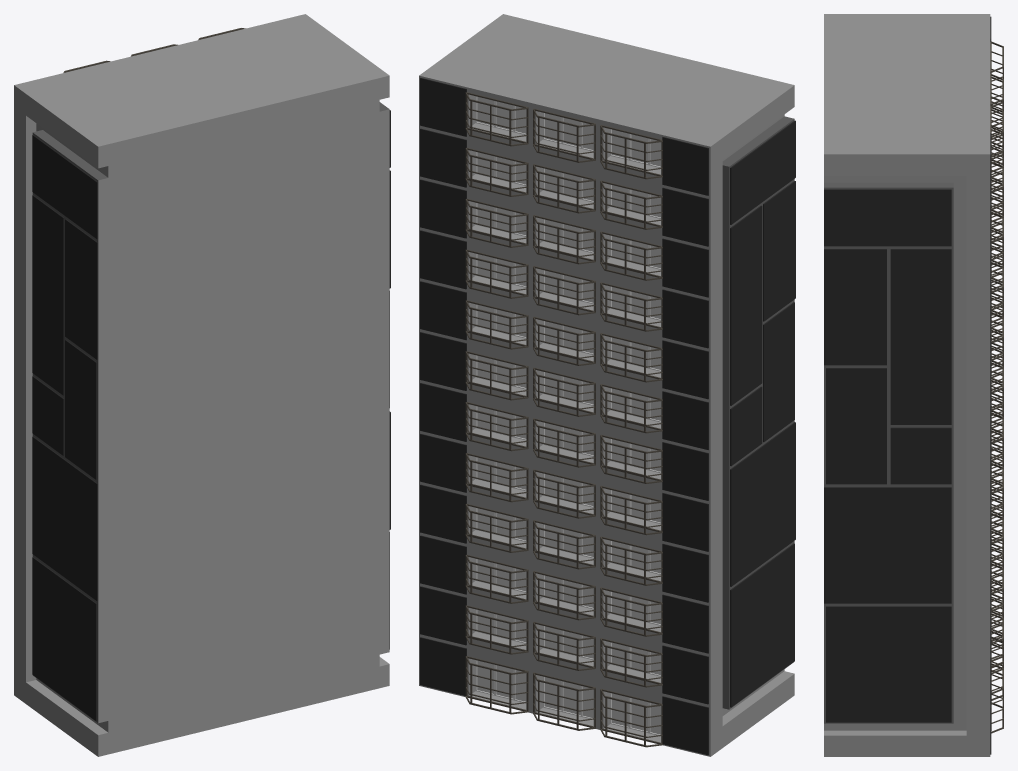
Rendered from Building_05_B_Fake Interior.FBX.
The picture shows the model from 3 angles, left to right: view 1: azimuth 30°, elevation 25°; view 2: azimuth 150°, elevation 25°; view 3: azimuth 270°, elevation 25°; orthographic projection.
Visible parts, largest first — view 1: Building_05_B_Fake Interior_LOD0; view 2: Building_05_B_Fake Interior_LOD0, Building_05_Window_Fence_Back_LOD0; view 3: Building_05_B_Fake Interior_LOD0, Building_05_Window_Fence_Back_LOD0.
Part boxes in pixels (bbox=[...]): Building_05_B_Fake Interior_LOD0: bbox=[14, 14, 390, 756]; Building_05_B_Fake Interior_LOD0: bbox=[419, 14, 795, 756]; Building_05_Window_Fence_Back_LOD0: bbox=[465, 92, 663, 747]; Building_05_B_Fake Interior_LOD0: bbox=[824, 14, 991, 756]; Building_05_Window_Fence_Back_LOD0: bbox=[990, 41, 1003, 733].
Size of what is drawn, in the model's own units: 907 by 1800 by 487.
